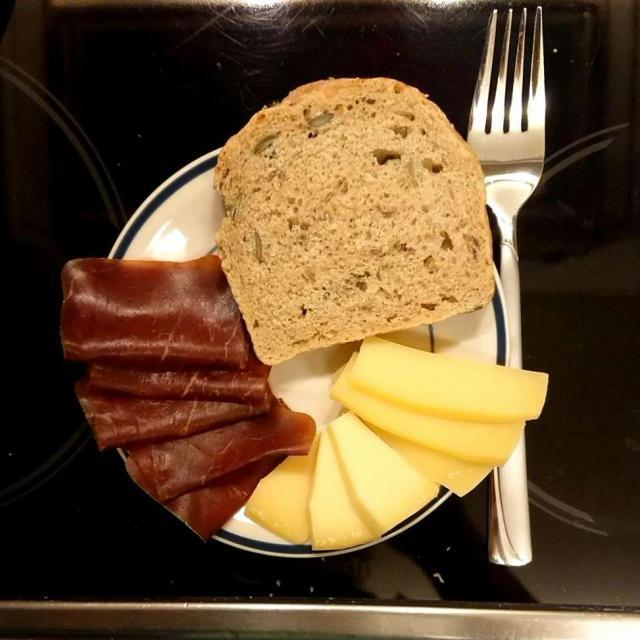bread: (220, 80, 487, 355)
cheese: (229, 350, 536, 546)
dried-meat: (65, 259, 294, 534)
